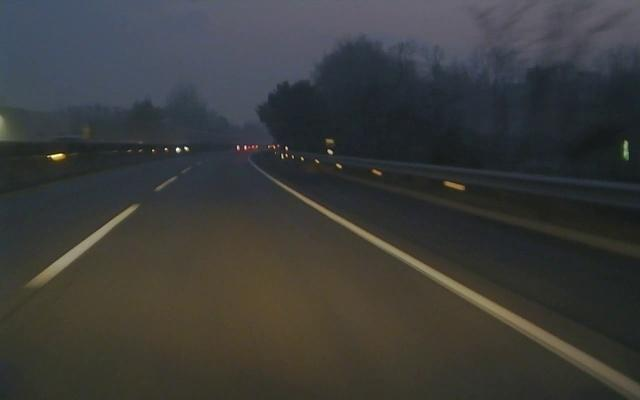lane: (261, 172, 640, 400), (20, 180, 173, 290)
